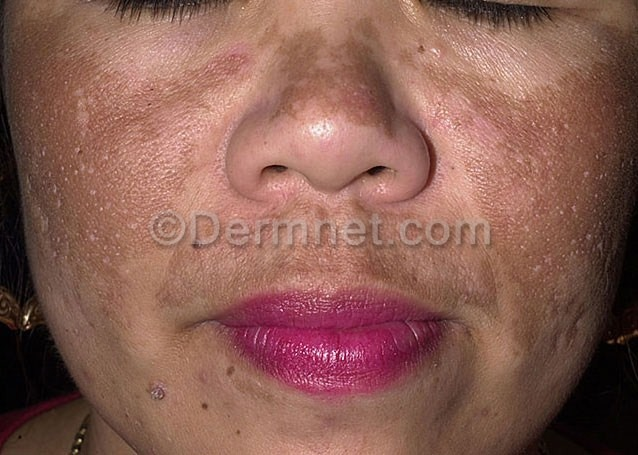Melasma: (496, 39, 634, 356), (5, 0, 152, 288), (276, 16, 403, 139)
